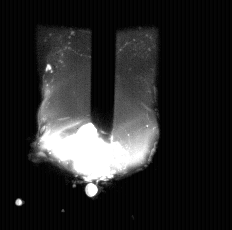arame: (92, 0, 115, 143)
poca: (36, 0, 158, 230)
